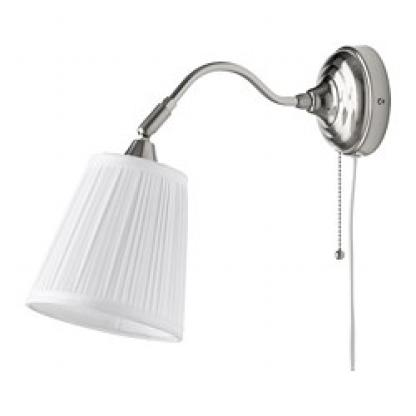Lamp: (22, 12, 391, 394)
